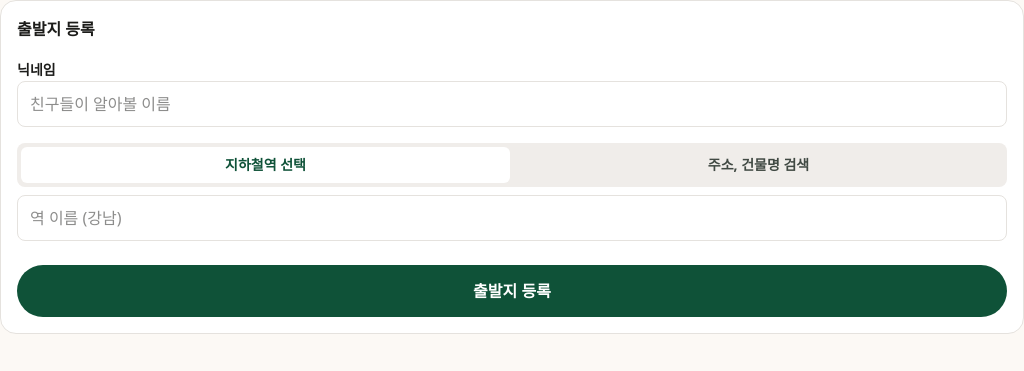
it: 주소 검색이 실패하면 안내 문구를 보여준다
Click the tab "주소, 건물명 검색" at {"x": 758, "y": 165}, box [514,147,1003,183]
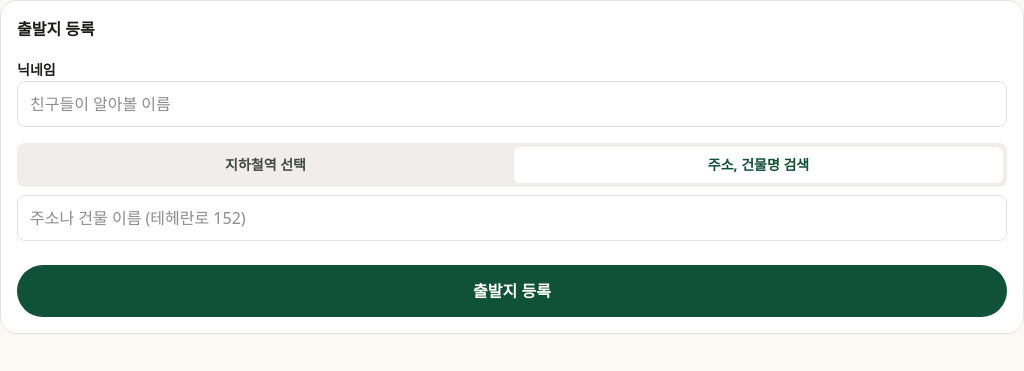
Type "강남역" into the field named "출발지 검색" at {"x": 512, "y": 218}, box [17,195,1007,241]
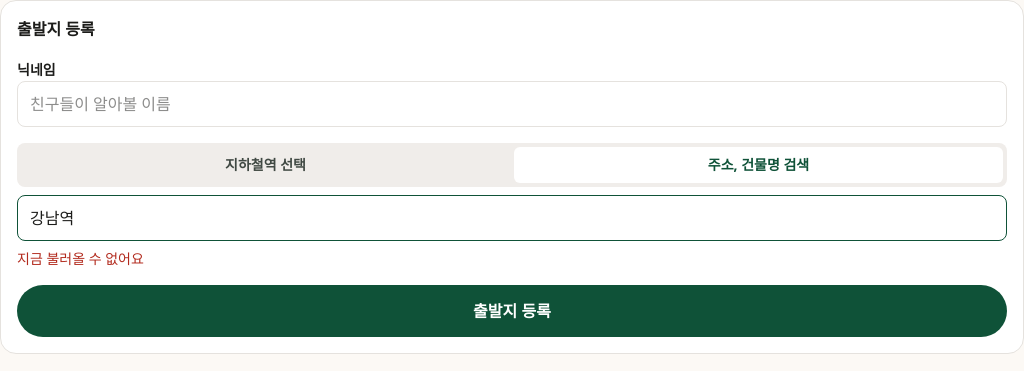
Now the text "지금 불러올 수 없어요" is shown, box [17,249,144,268]
